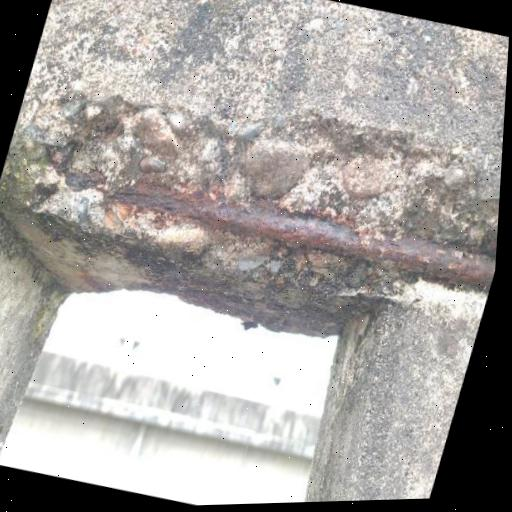exposed_rebar: (114, 180, 496, 290), (65, 170, 106, 192)
